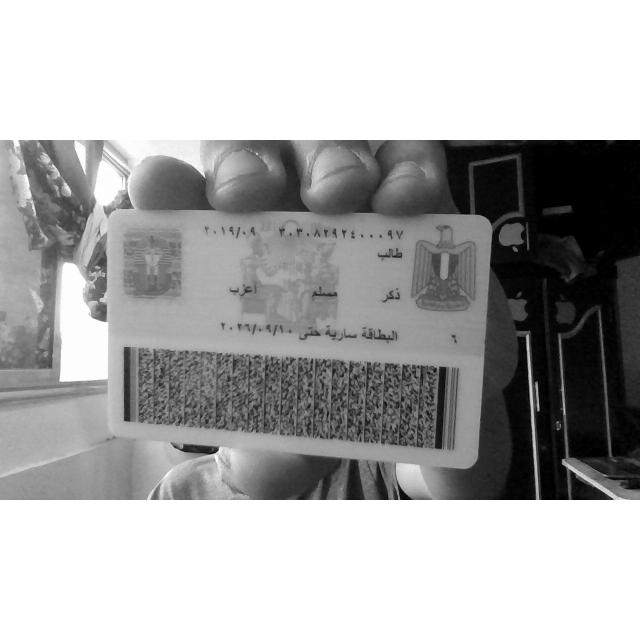id_card: (106, 209, 493, 467)
